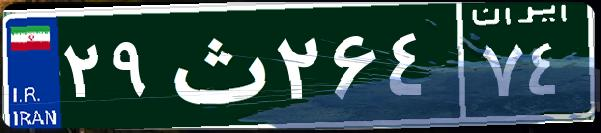2: (273, 28, 330, 110), (57, 26, 110, 107)
4: (385, 28, 445, 110), (525, 38, 570, 115)
6: (330, 28, 385, 110)
7: (475, 38, 525, 113)
9: (110, 28, 158, 105)
ث: (158, 15, 273, 115)
